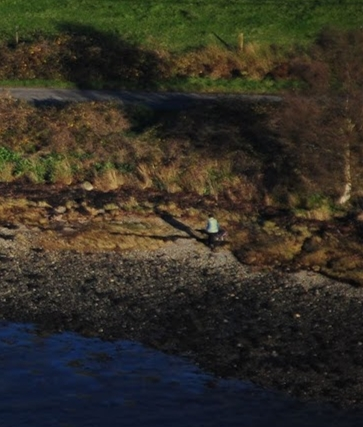white_in_green: (192, 202, 231, 241)
